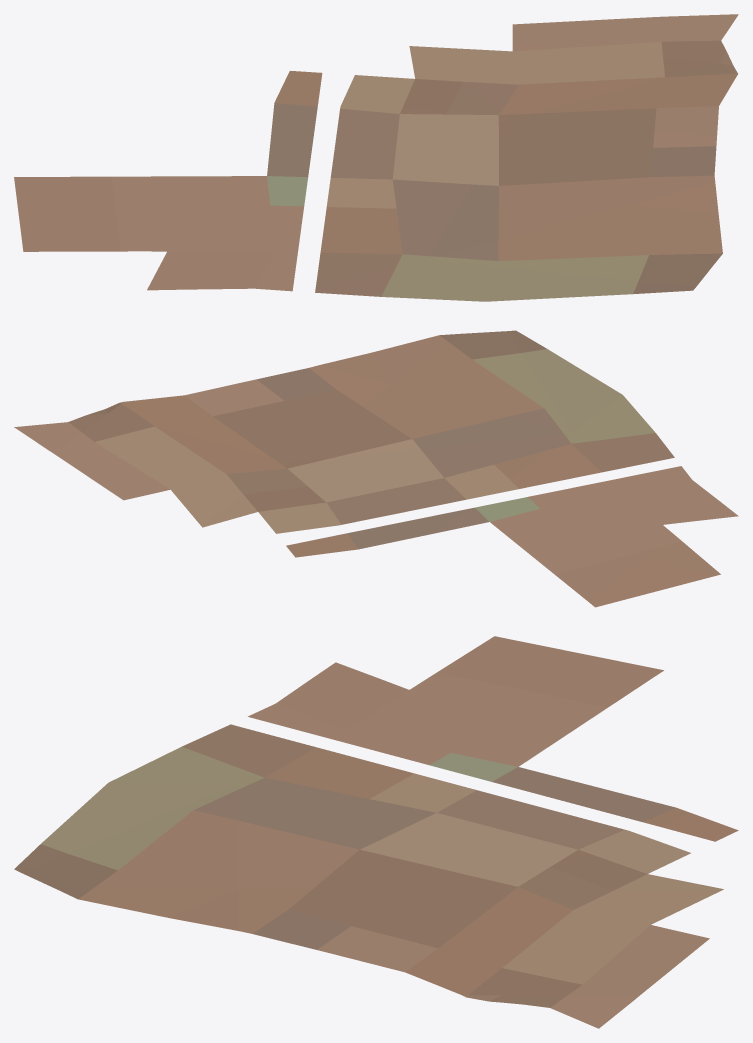
The model's file is farm_-47_-41_soil.glb.
3 renders of one model, top to bottom at view 1: azimuth 30°, elevation 25°; view 2: azimuth 150°, elevation 25°; view 3: azimuth 270°, elevation 25°, orthographic. The views are drawn at different scales.
Parts seen in each view (by area): view 1: geometry_0; view 2: geometry_0; view 3: geometry_0.
Boxes of the visible parts, x1=… form: geometry_0: x1=14, y1=14, x2=738, y2=301; geometry_0: x1=14, y1=330, x2=738, y2=607; geometry_0: x1=14, y1=636, x2=738, y2=1028.
Bounding box in the file's own units: 296 × 6.34 × 221.
